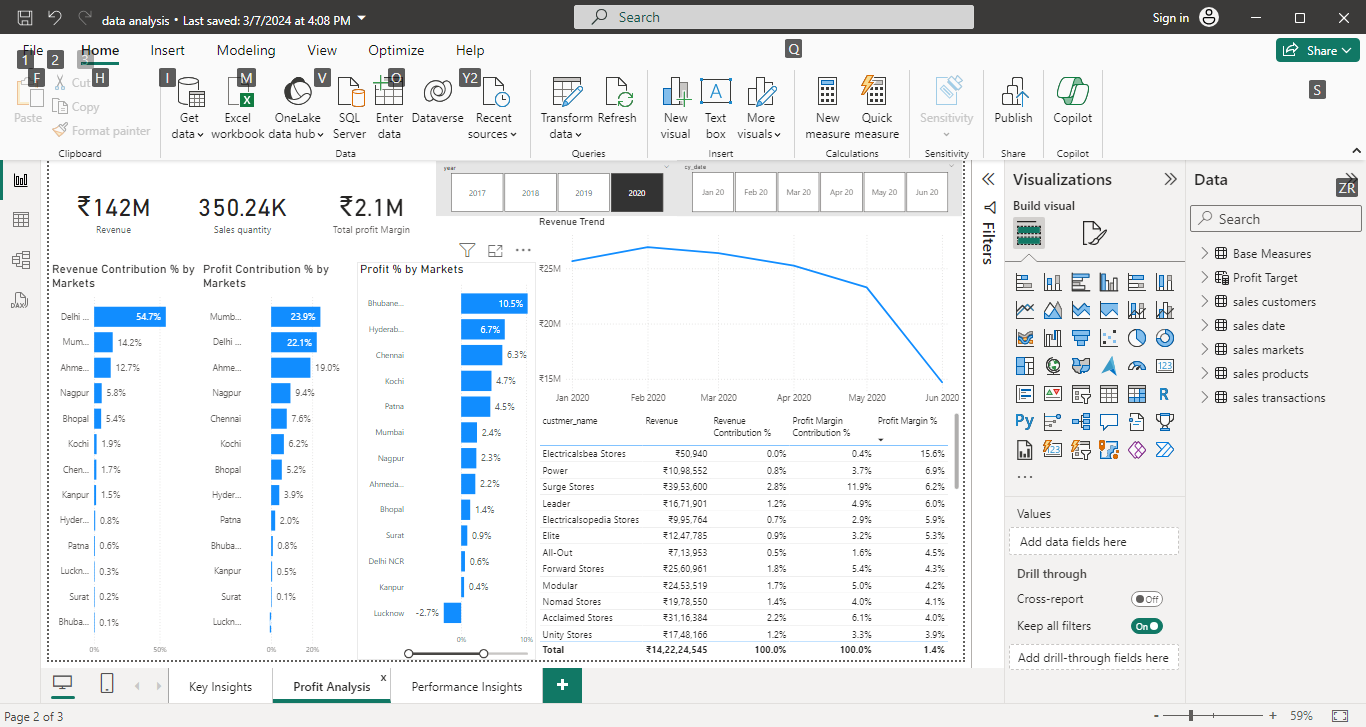

Layout of this report page (visuals, bound fields, positions):
{"tool":"powerbi","page":{"name":"Profit Analysis","canvas":[1560,854],"ordinal":1},"visuals":[{"type":"card","fields":{"Values":["Base Measures.Revenue"]},"box":[0,0,220.3,174.2],"z":0},{"type":"textbox","box":[22,364,271,240],"z":1000},{"type":"card","fields":{"Values":["Base Measures.Sales quantity"]},"box":[220.3,0,220.3,174.2],"z":2000},{"type":"clusteredBarChart","title":"Profit % by Markets","fields":{"Category":["sales markets.markets_name"],"Y":["Base Measures.Profit Margin %"]},"box":[526.1,174.2,305.7,679.8],"z":3000},{"type":"clusteredBarChart","title":"Profit Contribution % by Markets","fields":{"Category":["sales markets.markets_name"],"Y":["Base Measures.Profit Margin Contribution %"]},"box":[257.9,174.2,264.7,679.8],"z":4000},{"type":"tableEx","title":"Top 5 Customer","fields":{"Values":["sales customers.custmer_name","Base Measures.Revenue","Base Measures.Revenue Contribution %","Base Measures.Profit Margin Contribution %","Base Measures.Profit Margin %"]},"box":[831.8,427,727.6,427],"z":5000},{"type":"lineChart","title":"Revenue Trend ","fields":{"Y":["Base Measures.Revenue"],"Category":["sales date.cy_date"]},"box":[831.8,95.6,727.6,331.4],"z":6000},{"type":"card","fields":{"Values":["Base Measures.Total profit Margin"]},"box":[440.7,0,220.3,174.2],"z":7000},{"type":"slicer","fields":{"Values":["sales date.year"]},"box":[661,1.7,411.6,93.9],"z":8000},{"type":"slicer","fields":{"Values":["sales date.cy_date"]},"box":[1072.6,0,486.8,95.6],"z":9000},{"type":"clusteredBarChart","title":"Revenue Contribution % by Markets","fields":{"Category":["sales markets.markets_name"],"Y":["Base Measures.Revenue Contribution %"]},"box":[0,174.2,257.9,679.8],"z":10000}]}

Visuals, with their boxes on the page's 1560x854 design canvas (x1, y1, x2, y2). These are canvas units, not pixel positions in the 1366x727 screenshot, which may show the page scaled, cropped or inside an application window:
card - Base Measures.Revenue: 0, 0, 220, 174
textbox: 22, 364, 293, 604
card - Base Measures.Sales quantity: 220, 0, 441, 174
"Profit % by Markets" clusteredBarChart: 526, 174, 832, 854
"Profit Contribution % by Markets" clusteredBarChart: 258, 174, 523, 854
"Top 5 Customer" tableEx: 832, 427, 1559, 854
"Revenue Trend " lineChart: 832, 96, 1559, 427
card - Base Measures.Total profit Margin: 441, 0, 661, 174
slicer - sales date.year: 661, 2, 1073, 96
slicer - sales date.cy_date: 1073, 0, 1559, 96
"Revenue Contribution % by Markets" clusteredBarChart: 0, 174, 258, 854
